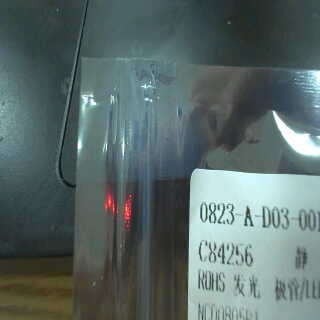LED: (230, 271, 320, 306)
